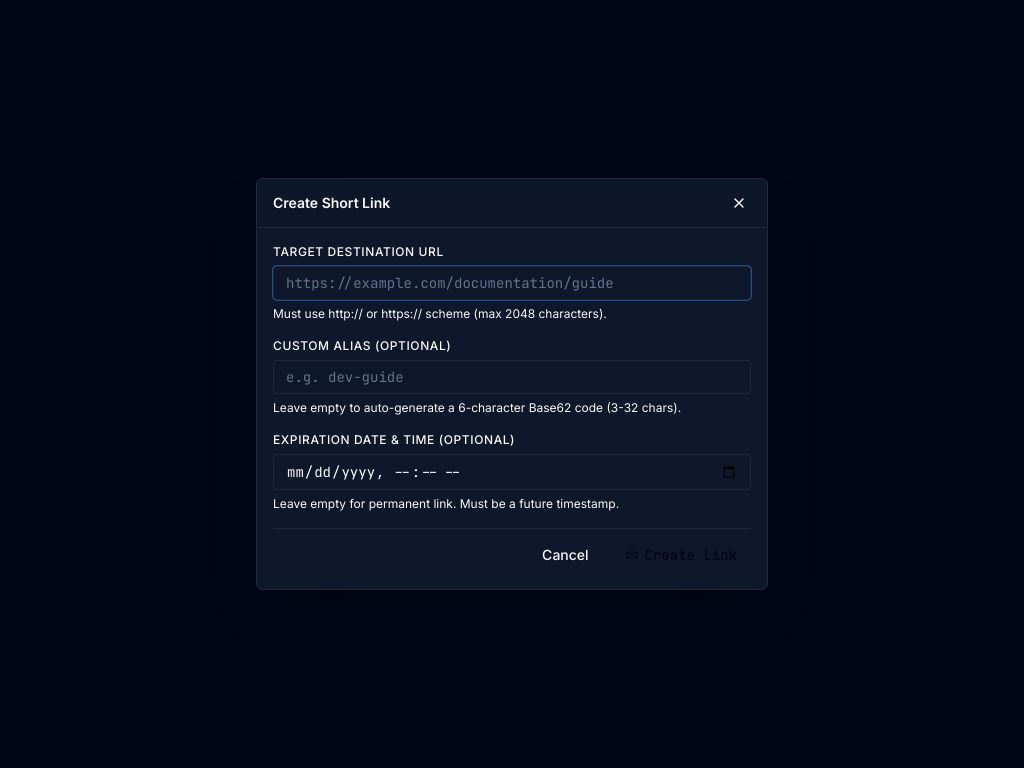
Test case: CreateLinkModal Component Tests › validates target URL protocol on form submit
This screenshot has width=1024, height=768.
In the field labelled "Target Destination URL": (512, 283) [273,266,751,300], type "ftp://invalid-scheme.com"
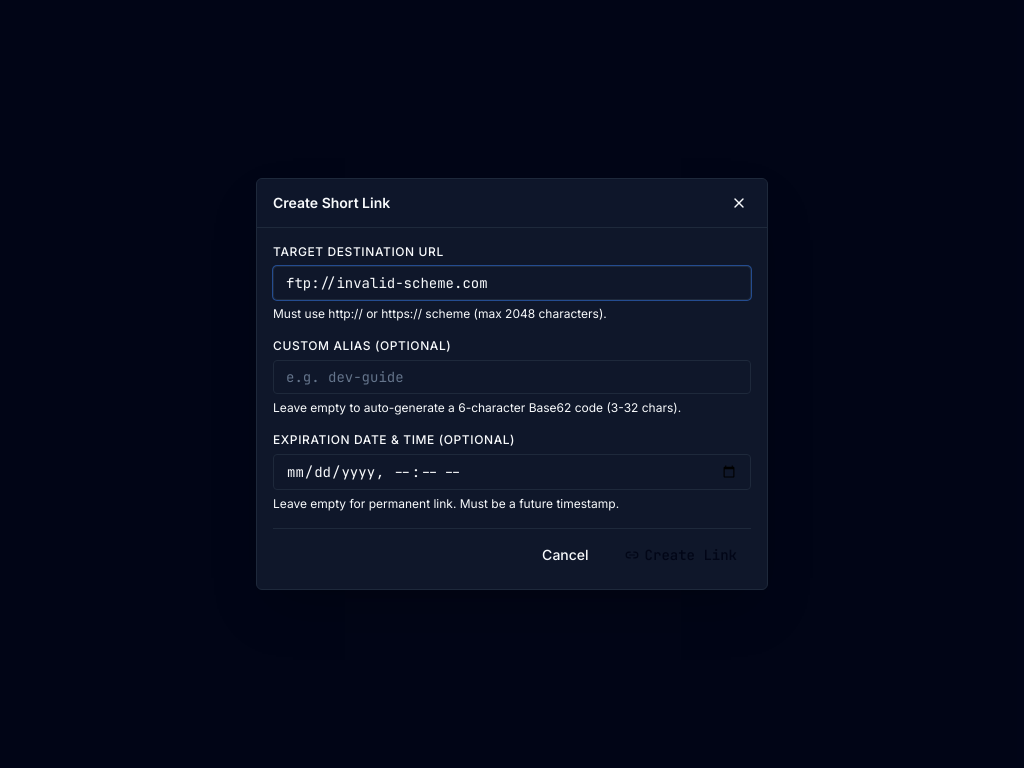
Submit the form labelled "Target Destination URL", box [273,244,751,573]
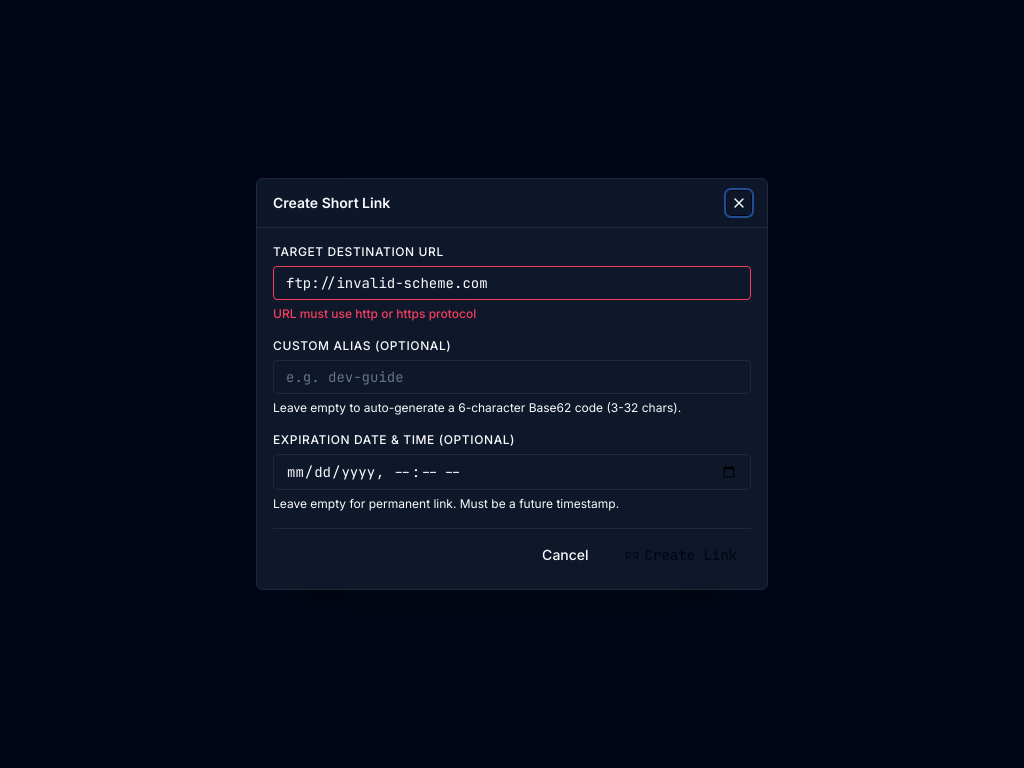
Expected: the text "URL must use http or https protocol" is shown, [273,306,476,321]
